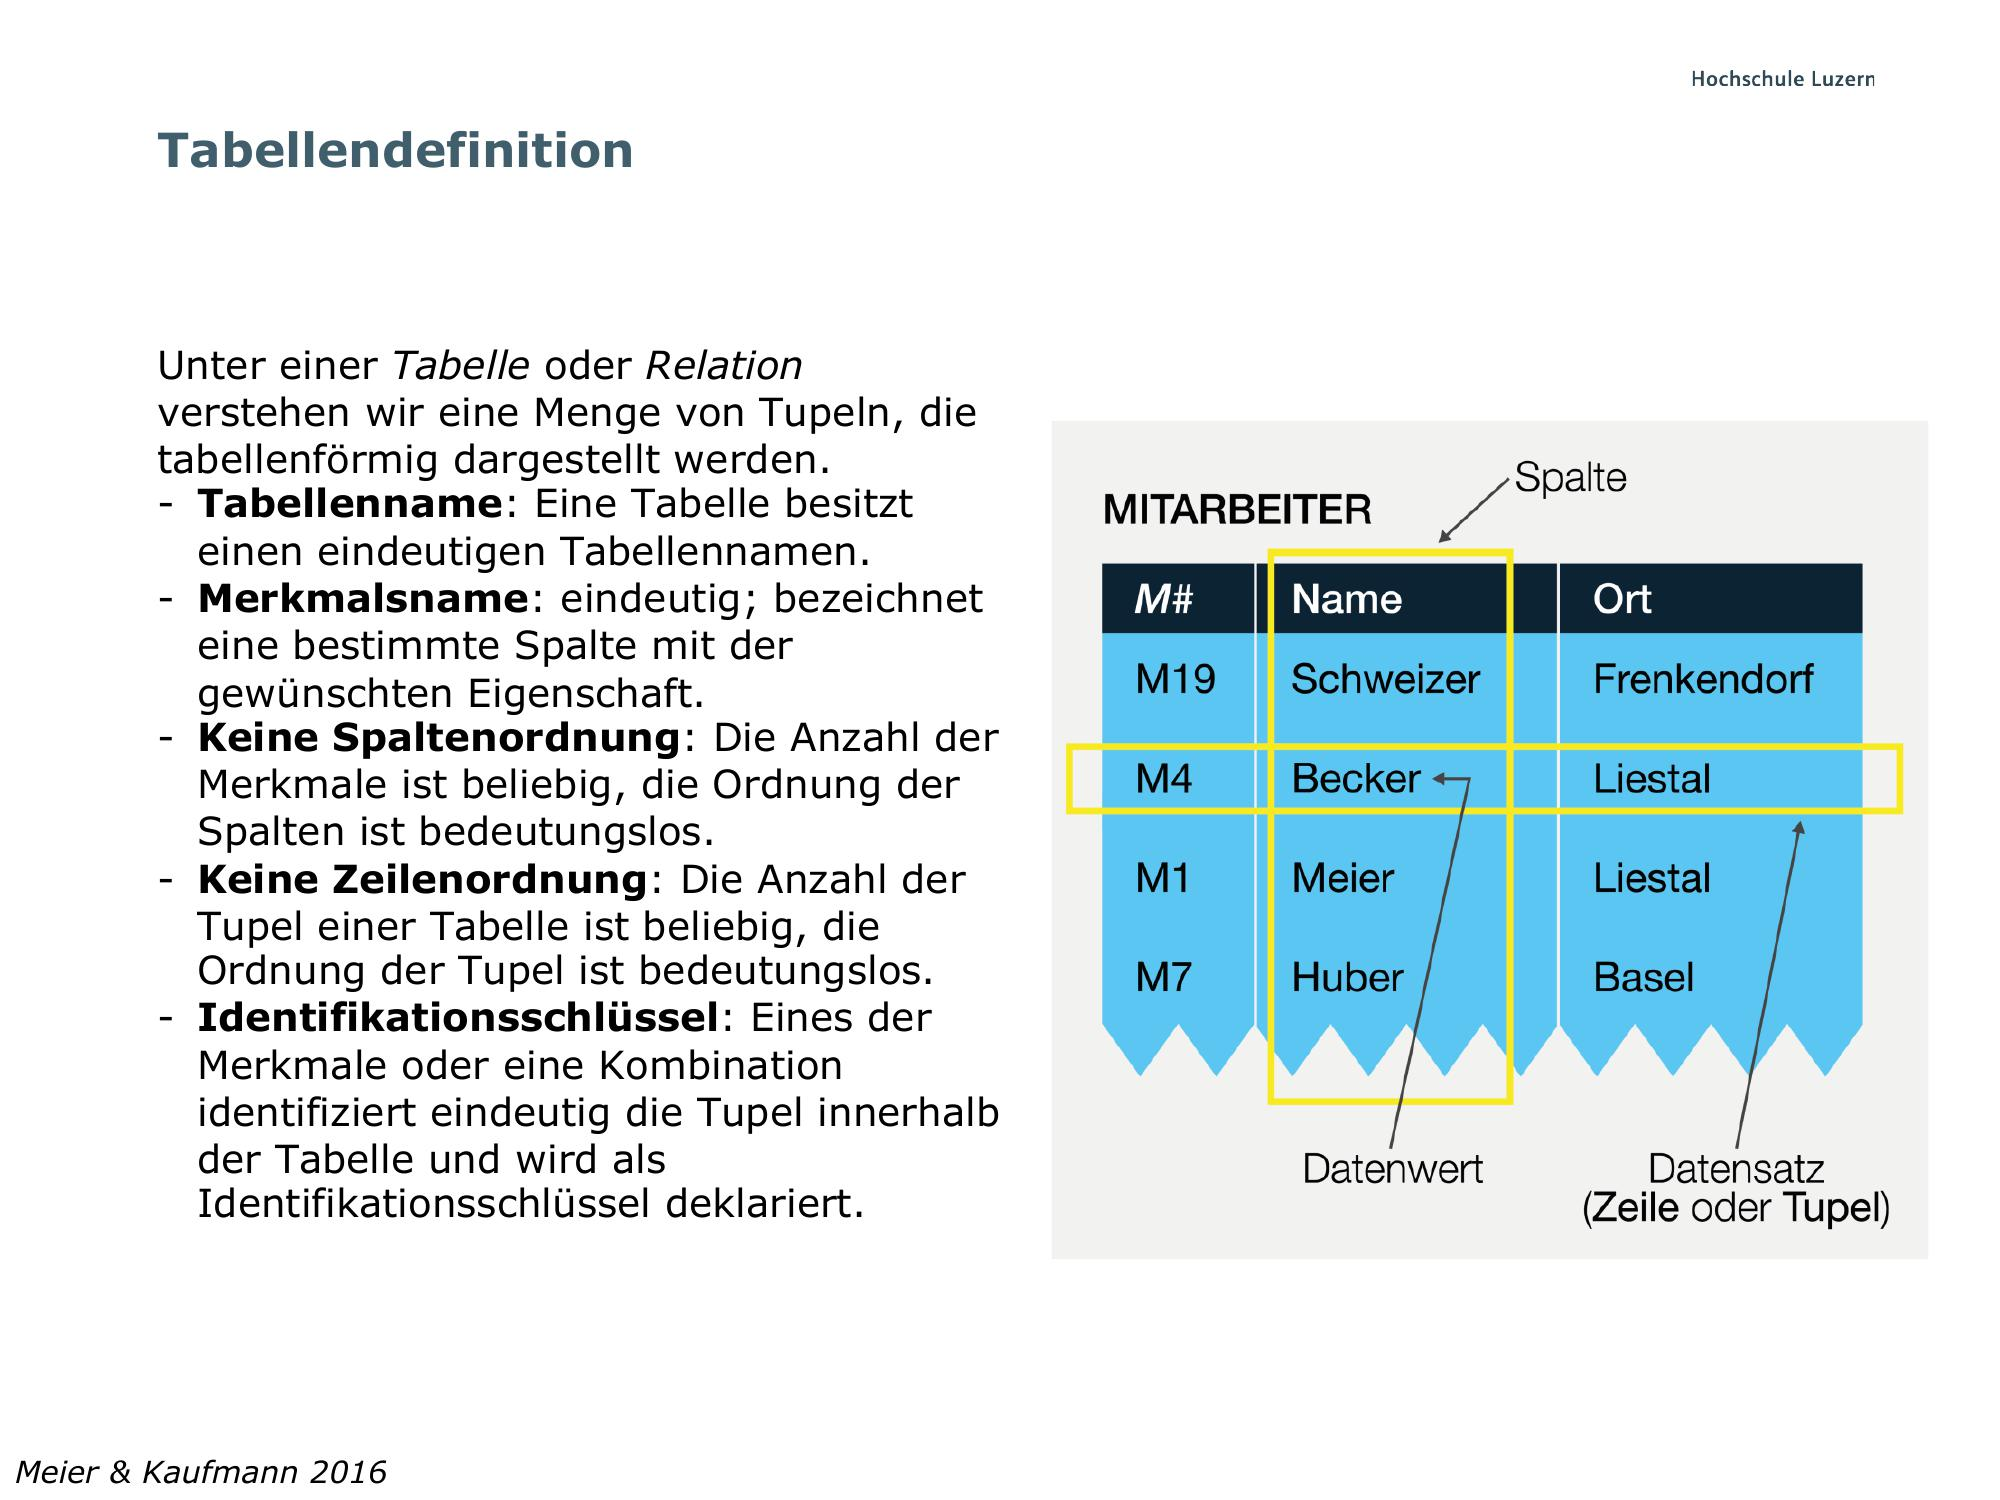Title: (150, 106, 657, 199)
